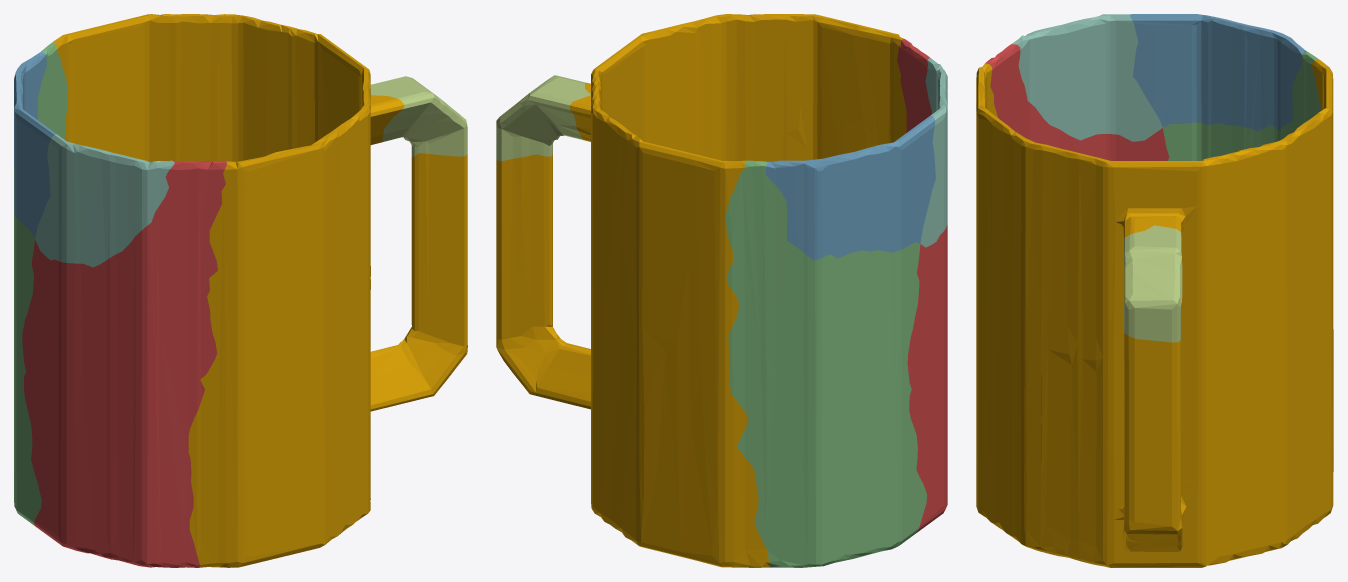
File: fractured_57_6pcs.glb
The picture shows the model from 3 angles, left to right: view 1: azimuth 30°, elevation 25°; view 2: azimuth 150°, elevation 25°; view 3: azimuth 270°, elevation 25°; orthographic projection.
Visible parts, largest first — view 1: piece_0.obj, piece_1.obj, piece_4.obj, piece_3.obj, piece_2.obj, piece_5.obj; view 2: piece_0.obj, piece_3.obj, piece_2.obj, piece_1.obj, piece_5.obj, piece_4.obj; view 3: piece_0.obj, piece_2.obj, piece_4.obj, piece_5.obj, piece_1.obj, piece_3.obj.
Part boxes in pixels (x1,y1,x2,y2): piece_0.obj: (53,14,467,567); piece_1.obj: (22,160,226,567); piece_4.obj: (35,134,174,267); piece_3.obj: (14,42,67,525); piece_2.obj: (14,51,55,238); piece_5.obj: (370,76,467,156); piece_0.obj: (496,14,906,567); piece_3.obj: (725,160,926,567); piece_2.obj: (765,115,935,260); piece_1.obj: (897,39,947,532); piece_5.obj: (496,75,590,161); piece_4.obj: (920,57,947,247); piece_0.obj: (976,59,1333,567); piece_2.obj: (1129,14,1306,131); piece_4.obj: (1012,14,1162,141); piece_5.obj: (1124,225,1182,342); piece_1.obj: (985,44,1169,160); piece_3.obj: (1163,51,1321,160).
Size of the model in its own units: 1 by 0.9343 by 0.74.
